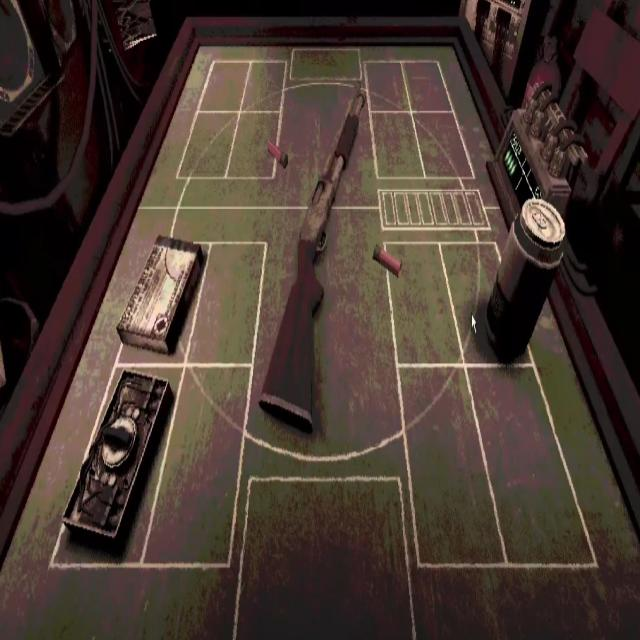can: (486, 197, 565, 362)
changepolarity: (63, 369, 173, 549)
expired-medicine: (117, 236, 205, 354)
